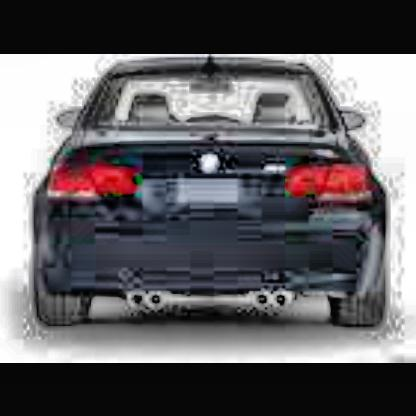BMW M3 Coupe 2012: (33, 57, 389, 339)
